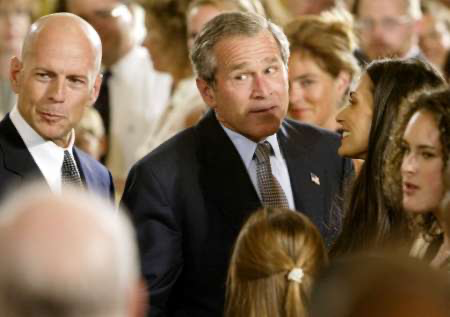Face: (24, 31, 96, 134), (212, 44, 290, 136), (401, 113, 440, 216), (282, 54, 334, 128), (332, 75, 374, 159)
